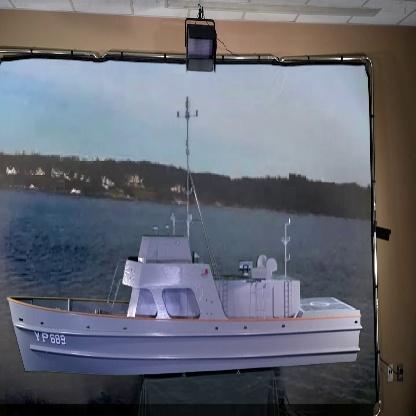YP689: (5, 79, 364, 377)
